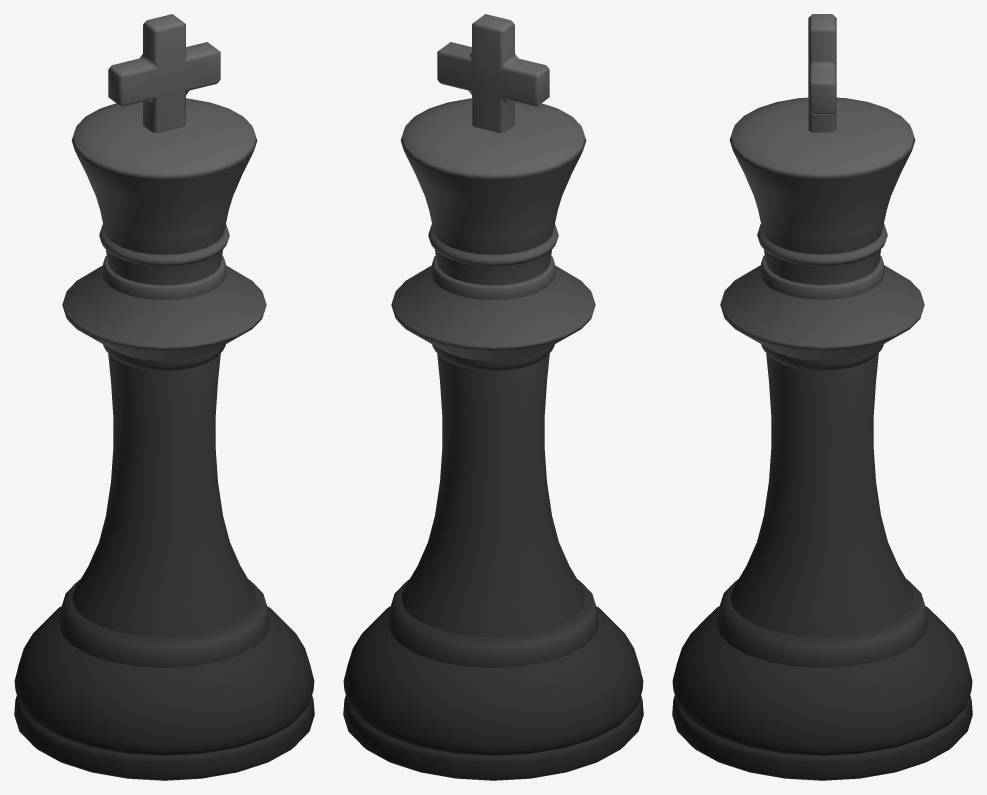
Rendered from Chess_Black_King_01.fbx.
The picture shows the model from 3 angles, left to right: view 1: azimuth 30°, elevation 25°; view 2: azimuth 150°, elevation 25°; view 3: azimuth 270°, elevation 25°; orthographic projection.
Visible parts, largest first — view 1: Chess_Black_King_01; view 2: Chess_Black_King_01; view 3: Chess_Black_King_01.
Part boxes in pixels (<box>): Chess_Black_King_01: <box>14,14,314,780</box>; Chess_Black_King_01: <box>343,14,643,780</box>; Chess_Black_King_01: <box>672,14,972,780</box>.
Size of the model in its own units: 4.01 by 10.36 by 4.01.
